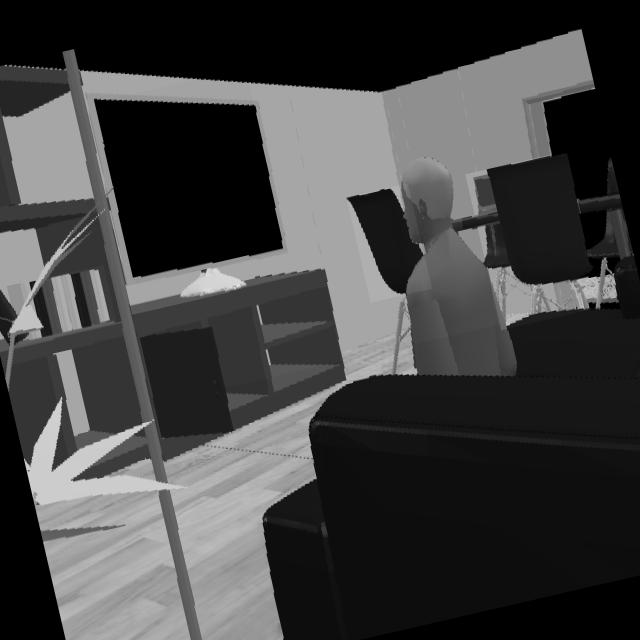book: (15, 269, 112, 337)
chair: (486, 156, 594, 311), (347, 189, 424, 295)
monitor: (97, 102, 282, 277)
person: (401, 157, 517, 377)
sofa: (260, 308, 640, 640)
table: (578, 193, 623, 215), (462, 215, 498, 228)
